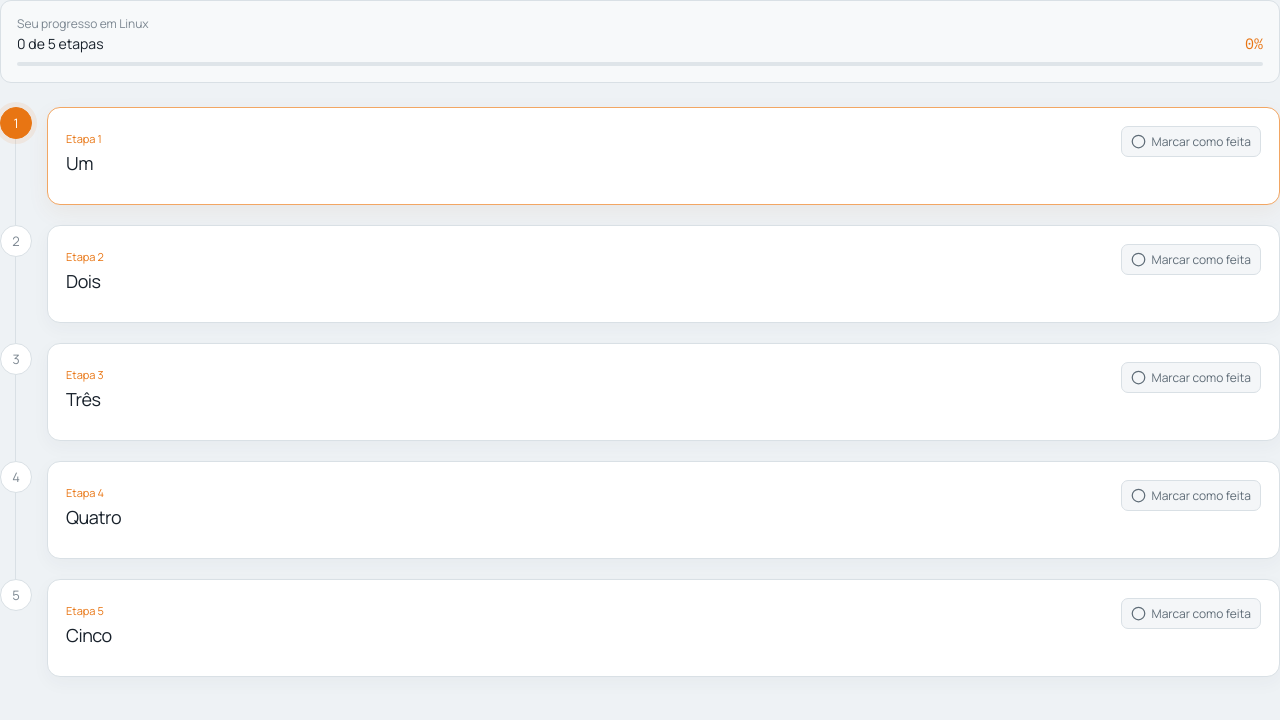
Test: Timeline › volta para a etapa pulada quando o usuário desiste
Step 1. Click the button "Marcar como feita" in the row of "Um" → (1191,142), box [1120,126,1261,157]
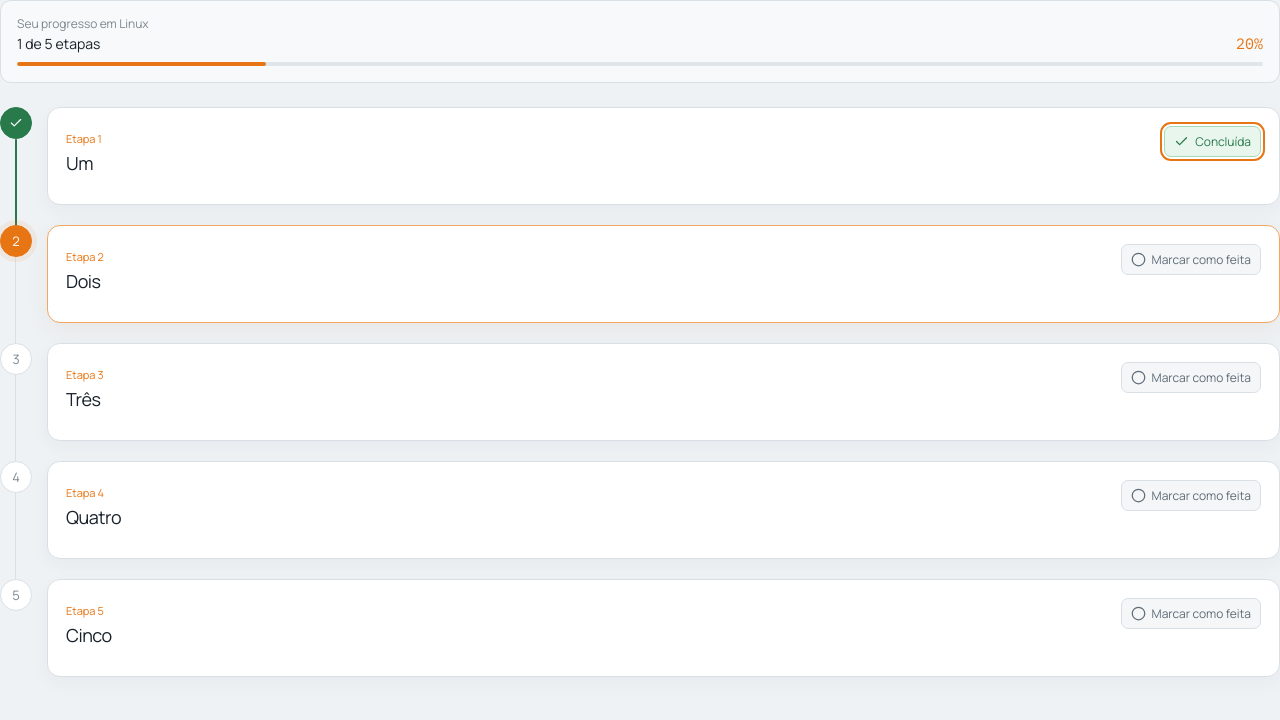
Step 2. Click the button "Marcar como feita" in the row of "Dois" → (1191,260), box [1120,244,1261,275]
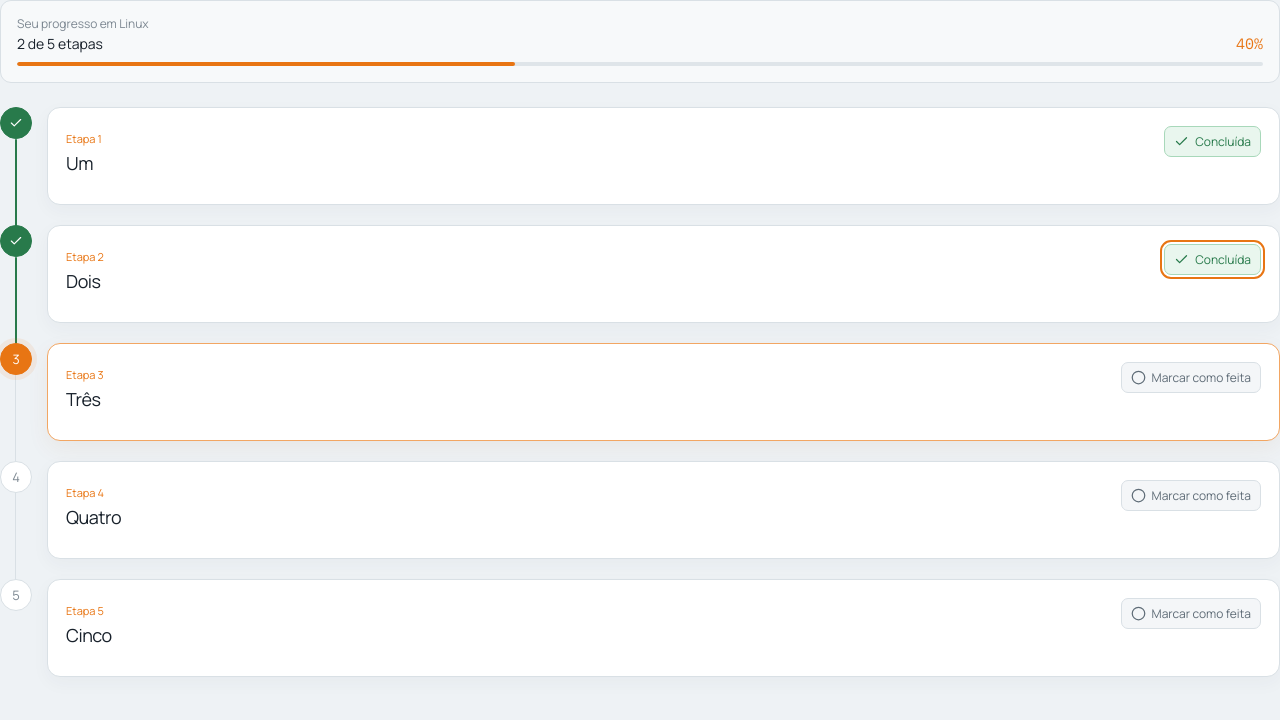
Step 3. Click the button "Marcar como feita" in the row of "Quatro" → (1191,496), box [1120,480,1261,511]
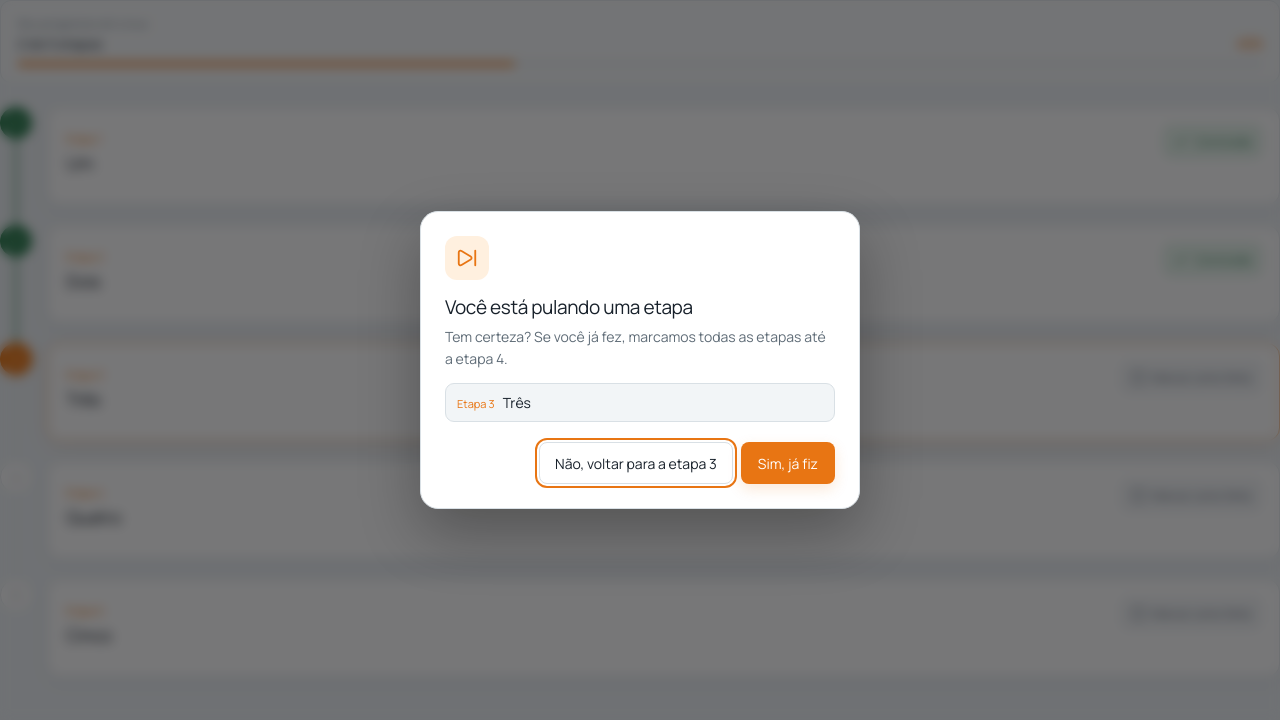
Step 4. Click the button "Não, voltar para a etapa 3" → (636,463), box [539,442,733,484]
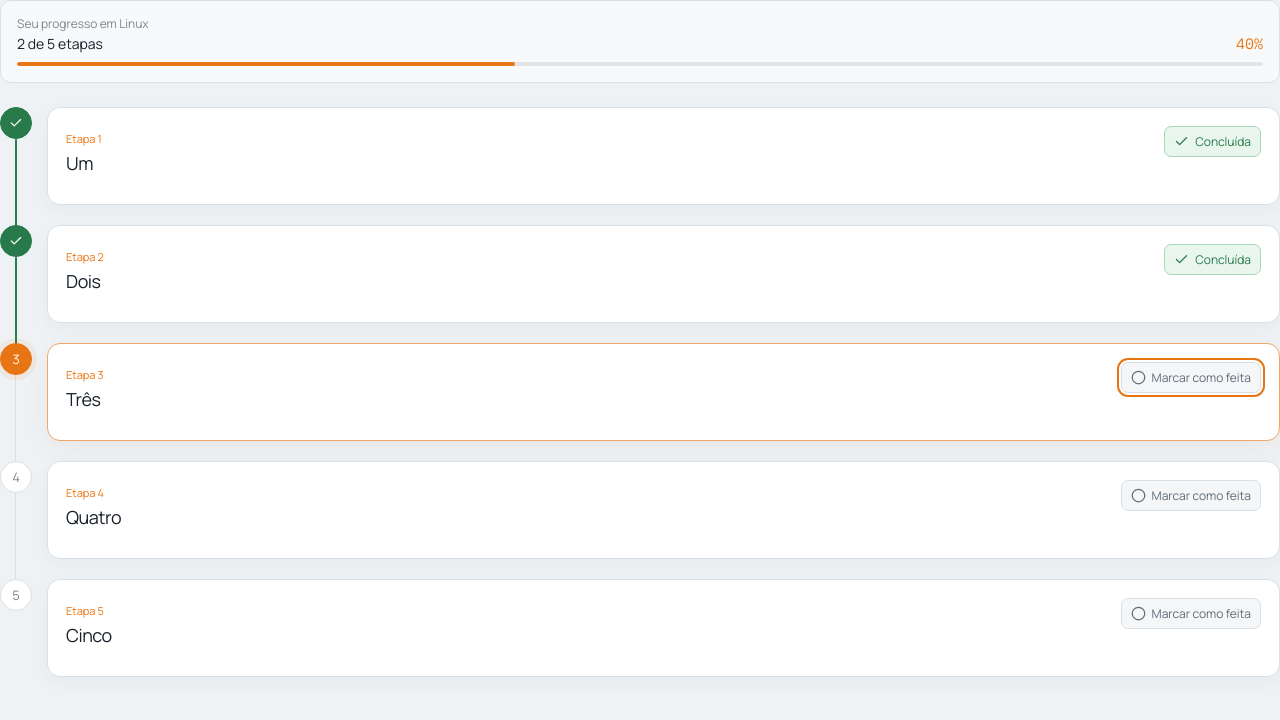
Check: the text "2 de 5 etapas" is shown, box [17,34,103,53]
Check: the dialog is gone
